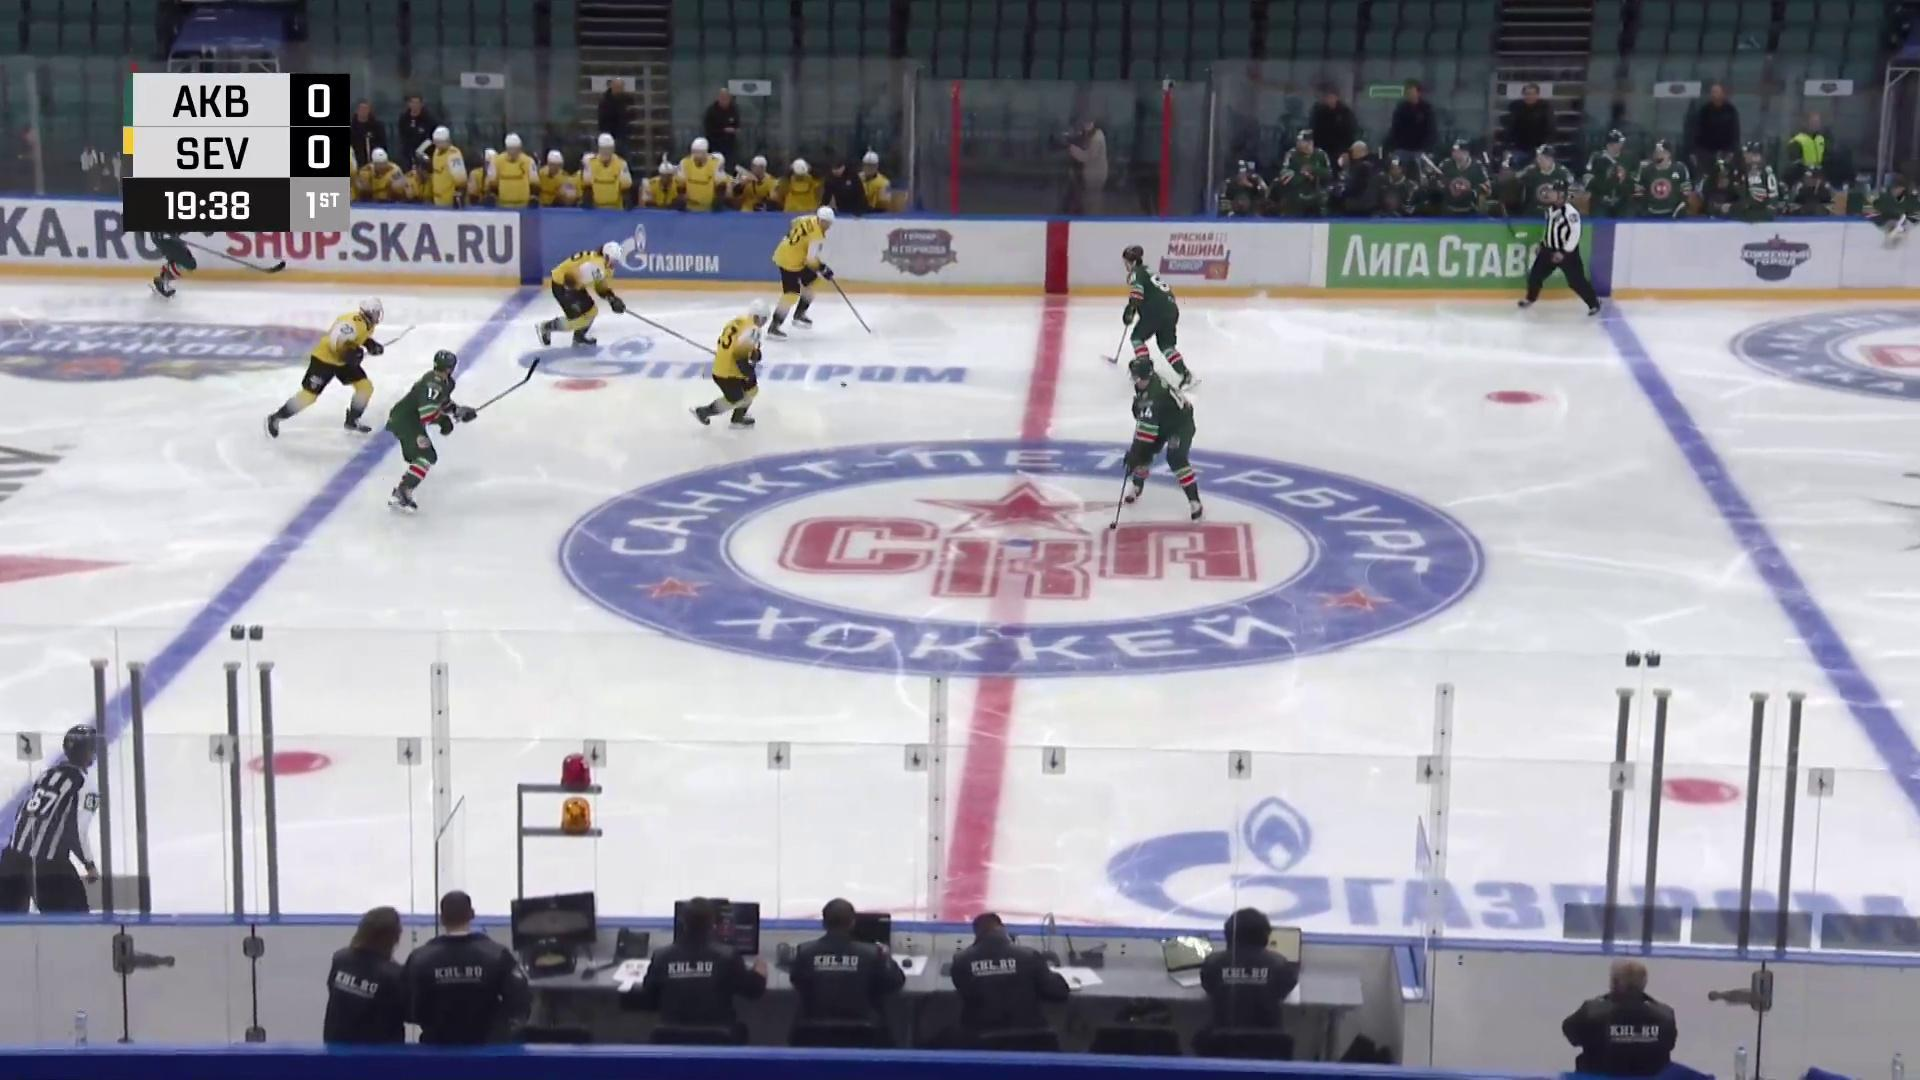ball: (839, 380, 849, 389)
